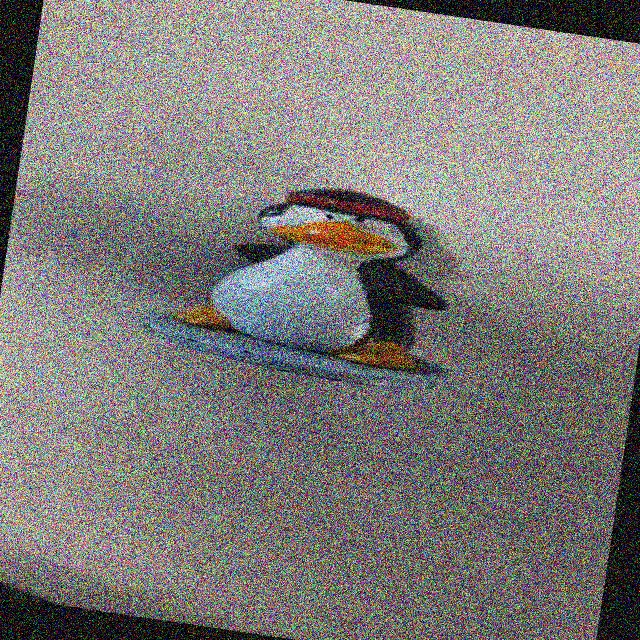Penguin: (132, 158, 483, 404)
